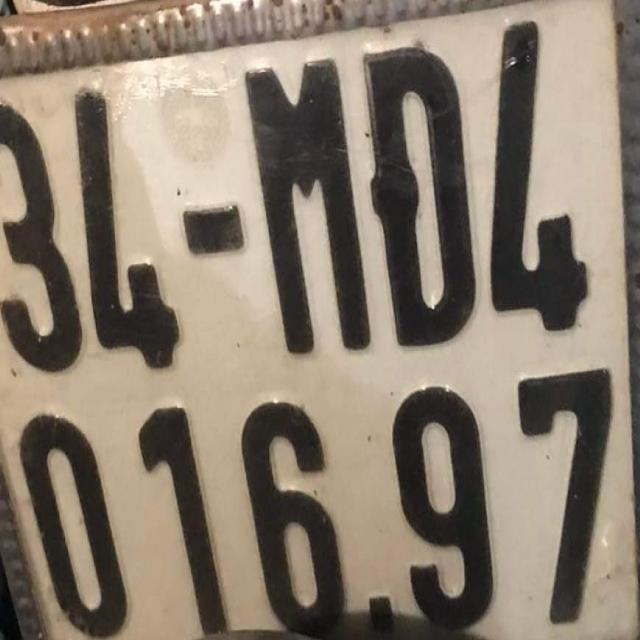0: (12, 402, 134, 640)
1: (134, 392, 232, 640)
4: (482, 5, 603, 340), (73, 79, 187, 381)
6: (240, 391, 349, 635)
7: (512, 358, 617, 632)
9: (384, 371, 504, 637)
D: (364, 31, 481, 361)
M: (243, 48, 374, 363)
